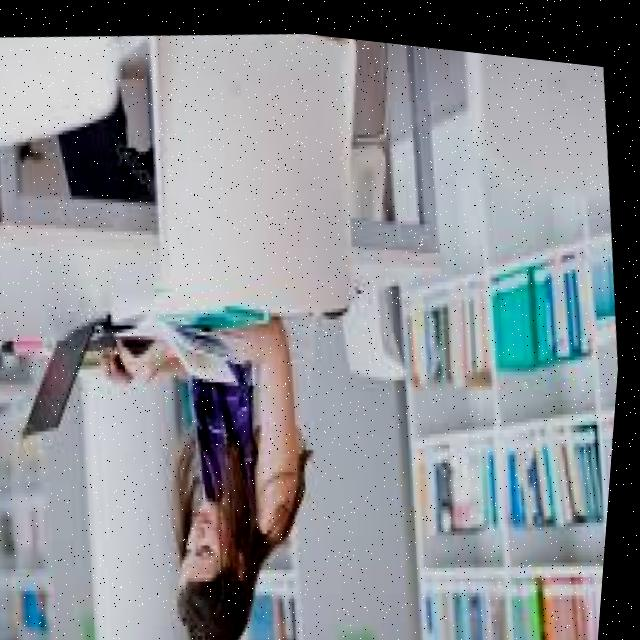studying-person: (83, 265, 374, 640)
